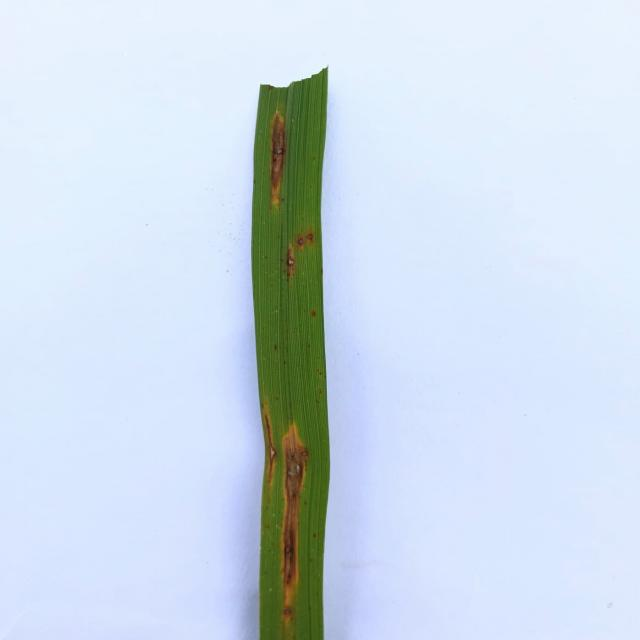leaf blast: (280, 419, 312, 501), (268, 110, 288, 195), (280, 520, 298, 592), (279, 603, 299, 623), (284, 248, 296, 276), (266, 441, 279, 462)
